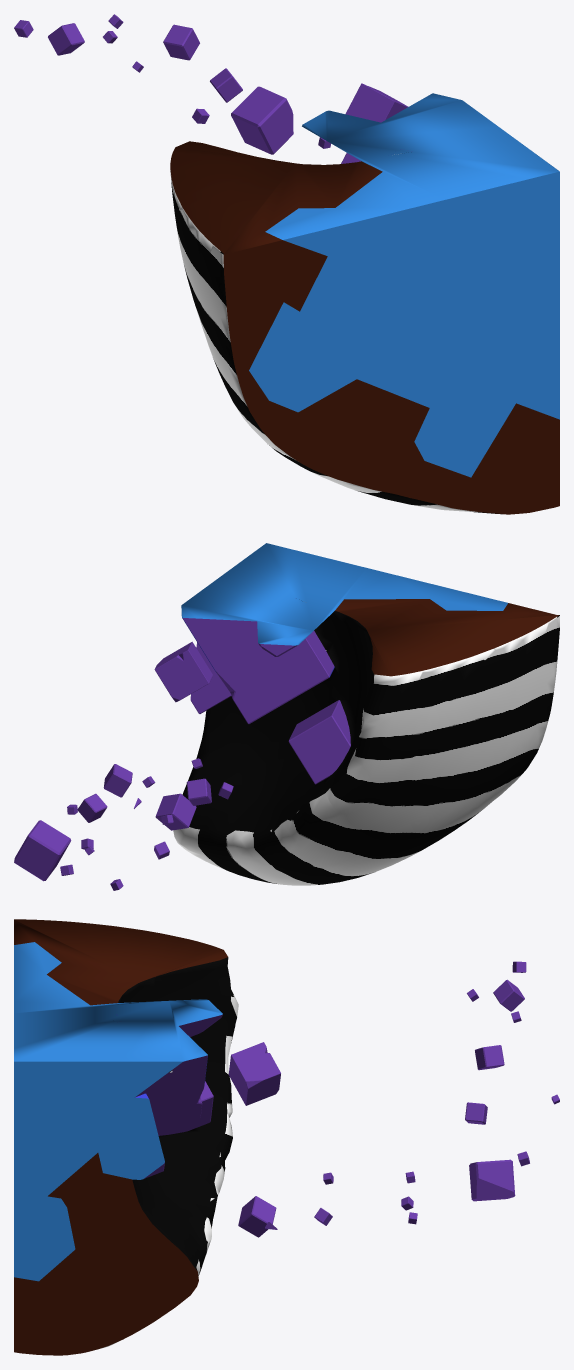
The model's file is SM_Apple_Front_RB.fbx.
3 views of the same model, one above another, from view 1: azimuth 30°, elevation 25°; view 2: azimuth 150°, elevation 25°; view 3: azimuth 270°, elevation 25° (orthographic). The views are drawn at different scales.
Visible parts, largest first — view 1: 立方体.0006; view 2: 立方体.0006; view 3: 立方体.0006.
Boxes of the visible parts, x1,y1,x2,y2 form: 立方体.0006: (14, 14, 559, 514); 立方体.0006: (14, 543, 559, 890); 立方体.0006: (14, 919, 559, 1355).
Size of the model in its own units: 118 by 114 by 191.
